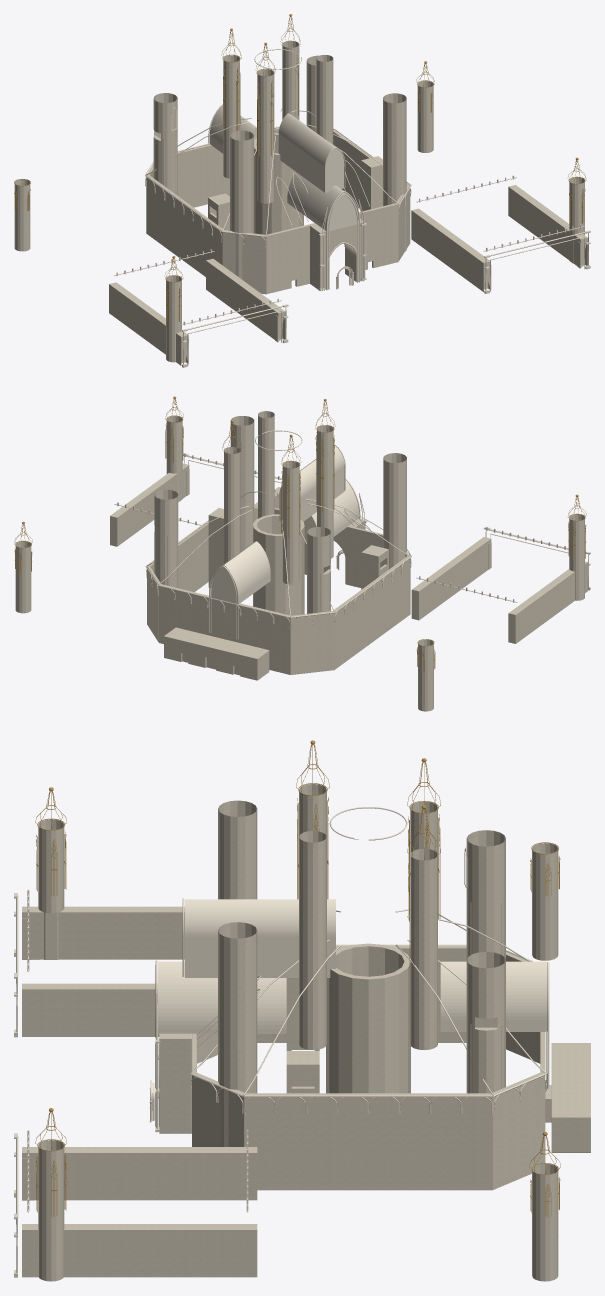
The model's file is Spaceport-01.glb.
The picture shows the model from 3 angles, top to bottom: view 1: azimuth 30°, elevation 25°; view 2: azimuth 150°, elevation 25°; view 3: azimuth 270°, elevation 25°; orthographic projection. The views are drawn at different scales.
Visible parts, largest first — view 1: NSP01.Native.1.2.Masonry, NSP01.Native.1.0.Ivory, NSP01.Native.1.1.Gold; view 2: NSP01.Native.1.2.Masonry, NSP01.Native.1.0.Ivory, NSP01.Native.1.1.Gold; view 3: NSP01.Native.1.2.Masonry, NSP01.Native.1.0.Ivory, NSP01.Native.1.1.Gold.
Part boxes in pixels (box(x1,y1,x2,y2)): NSP01.Native.1.2.Masonry: box(14, 40, 587, 365); NSP01.Native.1.0.Ivory: box(113, 49, 590, 367); NSP01.Native.1.1.Gold: box(14, 14, 586, 321); NSP01.Native.1.2.Masonry: box(15, 411, 587, 711); NSP01.Native.1.0.Ivory: box(114, 430, 590, 639); NSP01.Native.1.1.Gold: box(14, 396, 586, 671); NSP01.Native.1.2.Masonry: box(22, 784, 590, 1281); NSP01.Native.1.0.Ivory: box(14, 807, 549, 1277); NSP01.Native.1.1.Gold: box(35, 740, 560, 1216).
Size of the model in its own units: 484 by 237 by 353.
Materials: 3 (1 with a texture image).
